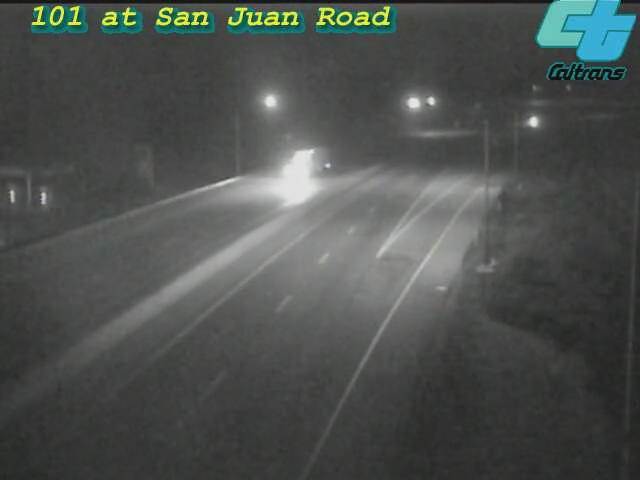vehicle: (269, 126, 349, 206), (510, 96, 560, 146)
